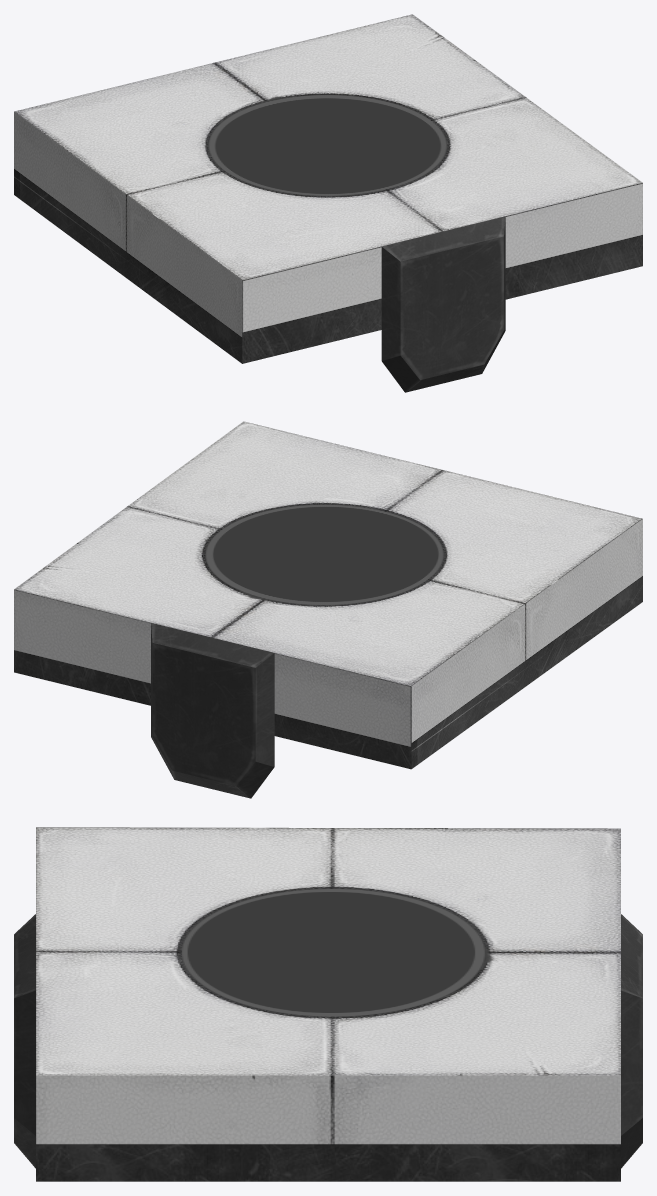
File: MOD_Platforme_1.fbx
The picture shows the model from 3 angles, top to bottom: view 1: azimuth 30°, elevation 25°; view 2: azimuth 150°, elevation 25°; view 3: azimuth 270°, elevation 25°; orthographic projection. The views are drawn at different scales.
Visible parts, largest first — view 1: polySurface11; view 2: polySurface11; view 3: polySurface11.
Boxes of the visible parts, x1,y1,x2,y2 form: polySurface11: [14, 14, 642, 392]; polySurface11: [14, 421, 642, 798]; polySurface11: [14, 827, 642, 1181].
Size of the model in its own units: 1005 by 364 by 1076.
